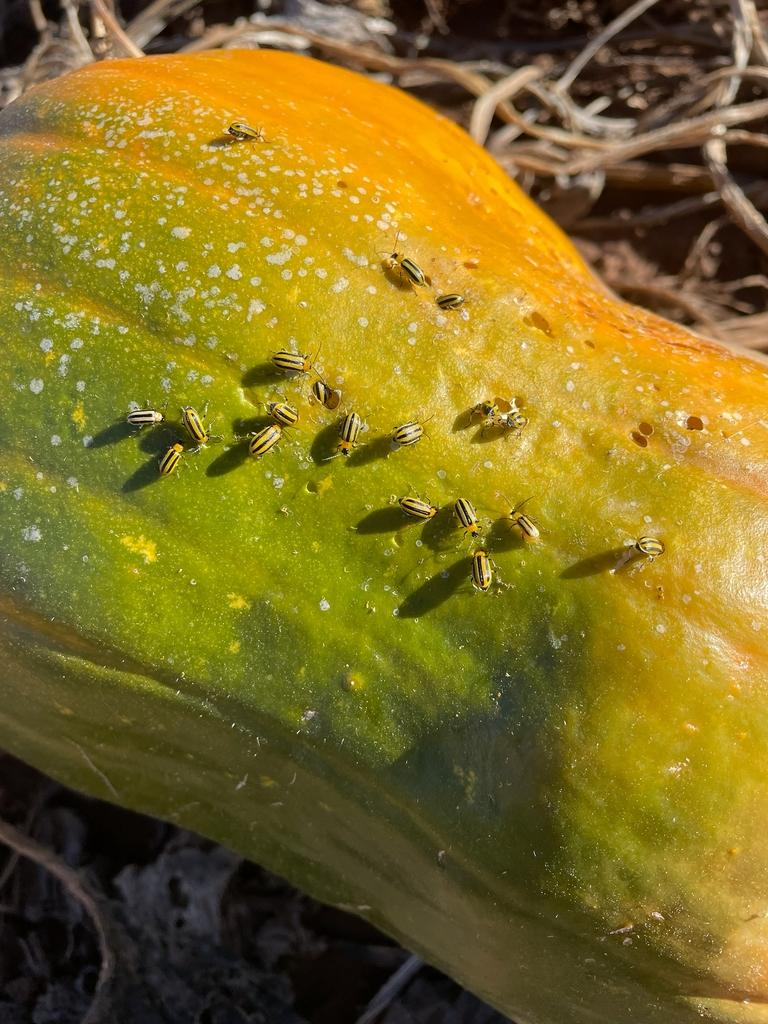potato_beetle: (364, 220, 443, 299), (490, 483, 554, 551), (258, 334, 334, 389), (381, 410, 437, 461), (460, 543, 508, 600), (236, 417, 292, 465), (176, 396, 219, 455), (328, 408, 372, 462), (447, 490, 490, 542), (391, 486, 443, 527), (113, 400, 175, 434)
